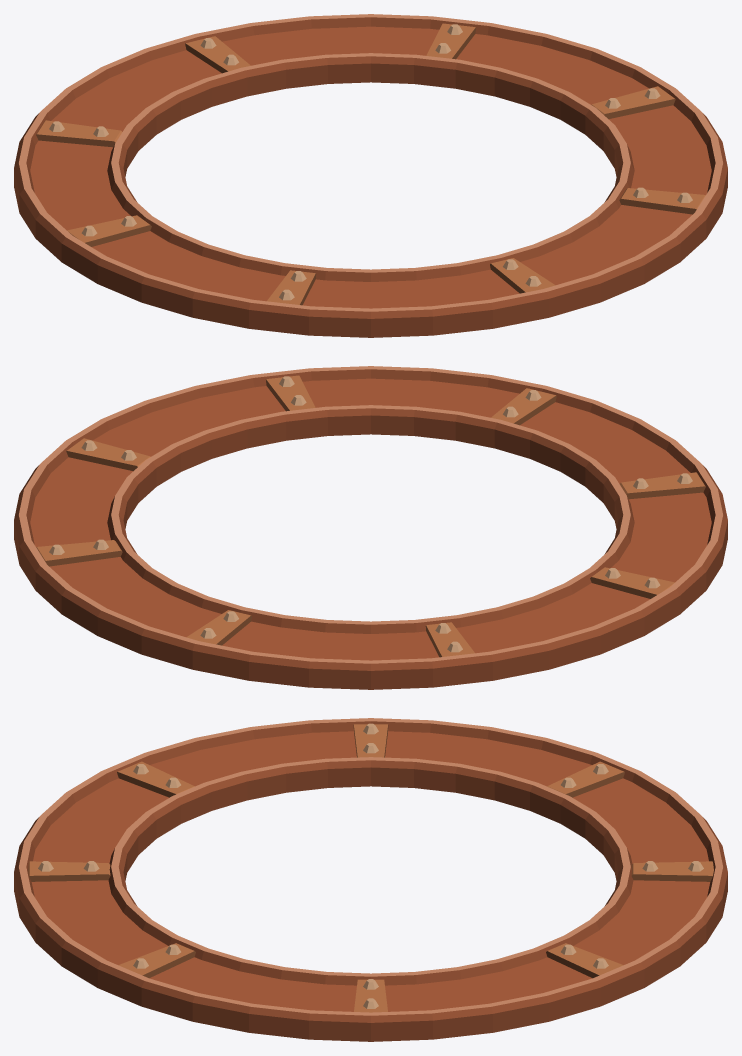
File: habitat_frame_4.fbx
3 renders of one model, top to bottom at view 1: azimuth 30°, elevation 25°; view 2: azimuth 150°, elevation 25°; view 3: azimuth 270°, elevation 25°, orthographic.
Visible parts, largest first — view 1: habitat_frame_4; view 2: habitat_frame_4; view 3: habitat_frame_4.
Part boxes in pixels (x1,y1,x2,y2): habitat_frame_4: [14, 14, 727, 337]; habitat_frame_4: [14, 366, 727, 689]; habitat_frame_4: [14, 718, 727, 1041].
Bounding box in the file's own units: 7.5 × 0.33 × 7.5.
